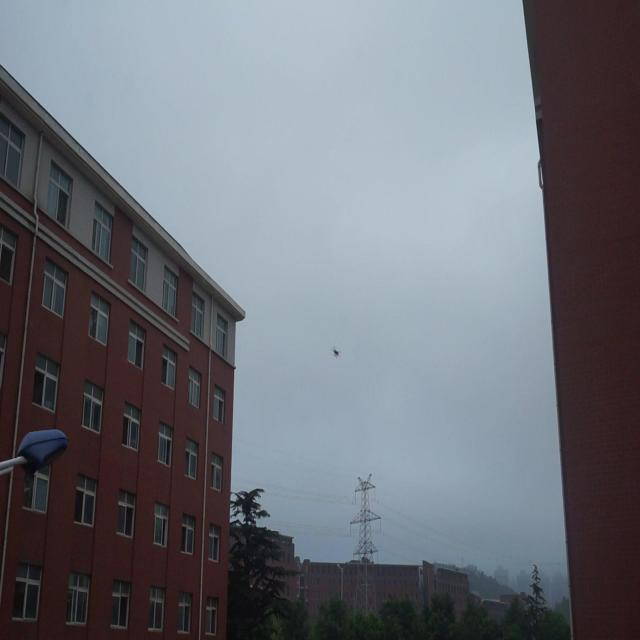drone: (329, 346, 342, 358)
